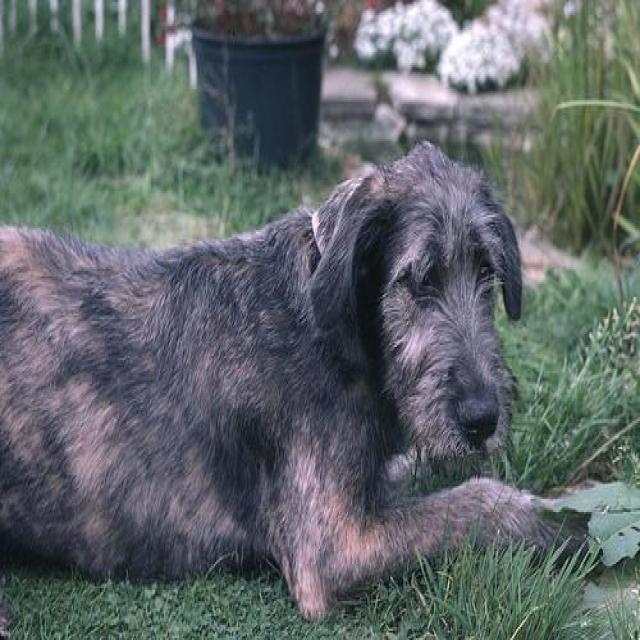irish_wolfhound: (0, 138, 598, 622)
